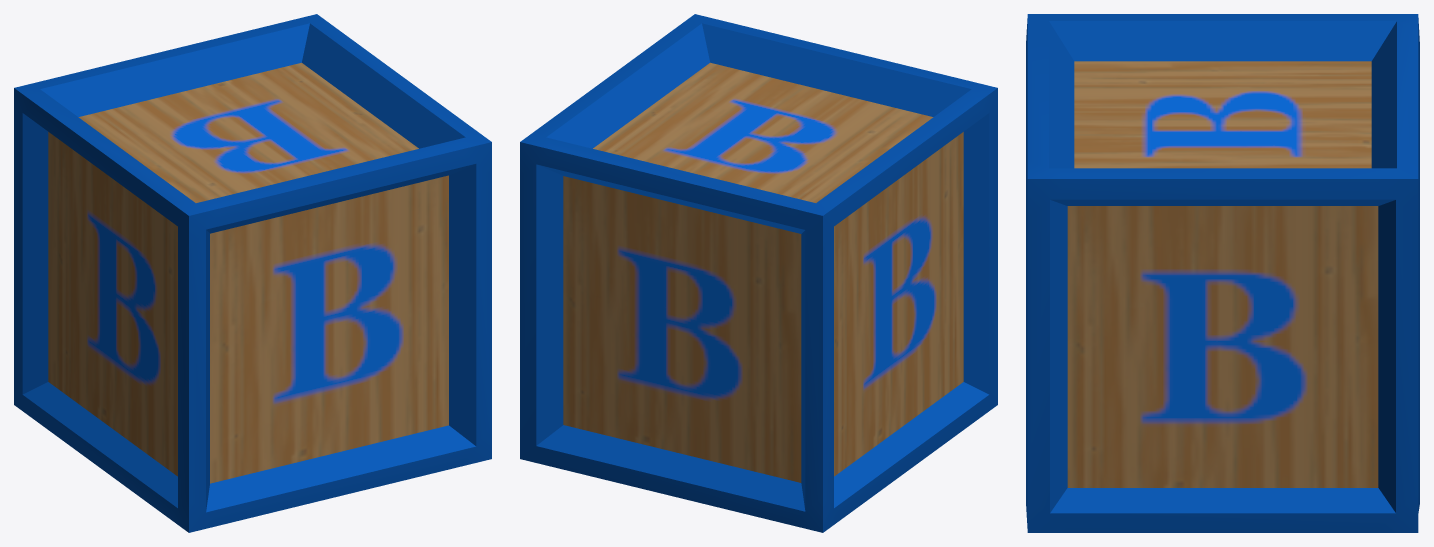
File: Letter_B.fbx
3 renders of one model, left to right at view 1: azimuth 30°, elevation 25°; view 2: azimuth 150°, elevation 25°; view 3: azimuth 270°, elevation 25°, orthographic. The views are drawn at different scales.
Parts seen in each view (by area): view 1: LetterBlock_B; view 2: LetterBlock_B; view 3: LetterBlock_B.
Part boxes in pixels (bbox=[...]): LetterBlock_B: bbox=[14, 14, 491, 532]; LetterBlock_B: bbox=[520, 14, 997, 532]; LetterBlock_B: bbox=[1026, 14, 1419, 532].
Size of the model in its own units: 0.1209 by 0.1213 by 0.121.
1 material, 1 textured.
